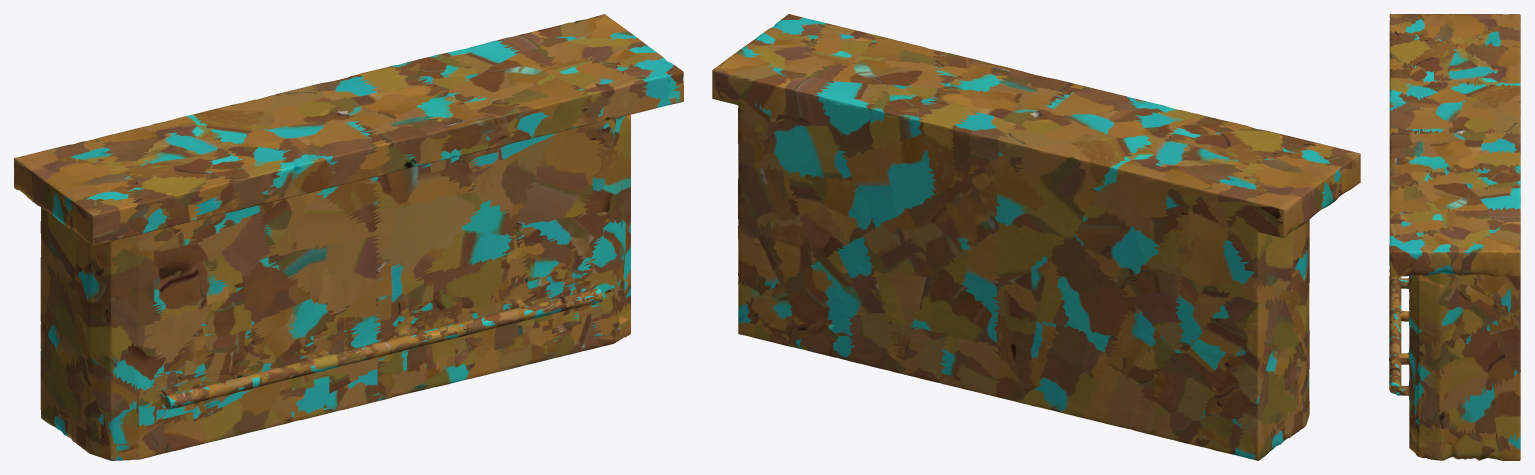
File: Counter 1.fbx
The picture shows the model from 3 angles, left to right: view 1: azimuth 30°, elevation 25°; view 2: azimuth 150°, elevation 25°; view 3: azimuth 270°, elevation 25°; orthographic projection. The views are drawn at different scales.
Visible parts, largest first — view 1: Mesh_0; view 2: Mesh_0; view 3: Mesh_0.
Boxes of the visible parts, x1,y1,x2,y2 form: Mesh_0: (14,14,683,460); Mesh_0: (712,14,1360,460); Mesh_0: (1389,14,1520,460).
Size of the model in its own units: 951 by 410 by 222.
